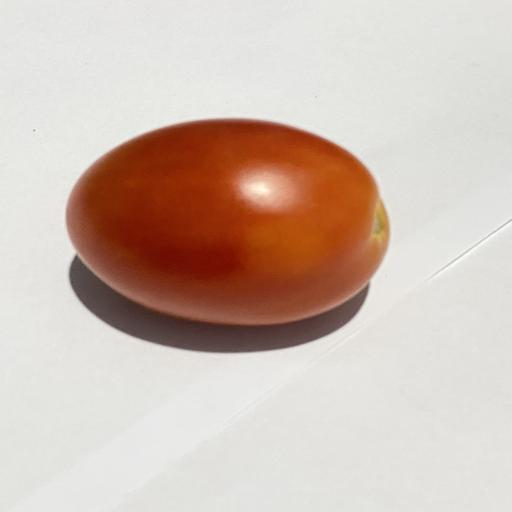ripe: (67, 119, 389, 325)
